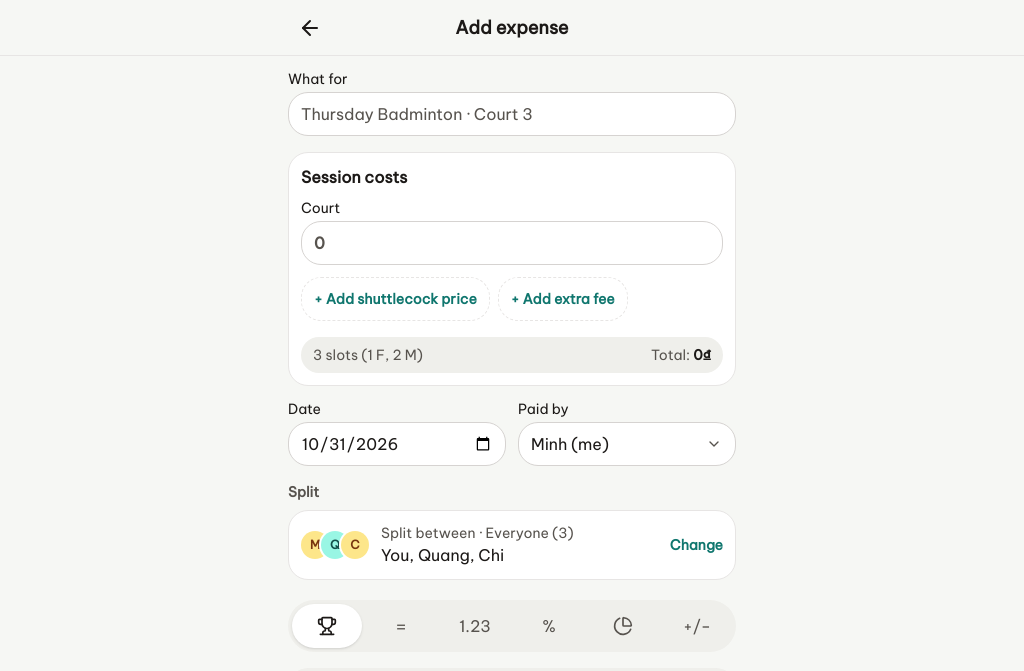
Test: Sport ExpenseForm and ExpenseDetails bill sharing › initially hides shuttlecock and extra fee inputs on a new sport expense until clicked, and removes them via × buttons
This screenshot has width=1024, height=671.
Expected: the field labelled "What for" is shown, left=288, top=92, right=736, bottom=136
Expected: the field labelled "Extra fee (water, parking…)" is not shown
# Click + Add shuttlecock price
Click the button "+ Add shuttlecock price".
click(395, 299)  # box left=301, top=277, right=490, bottom=321
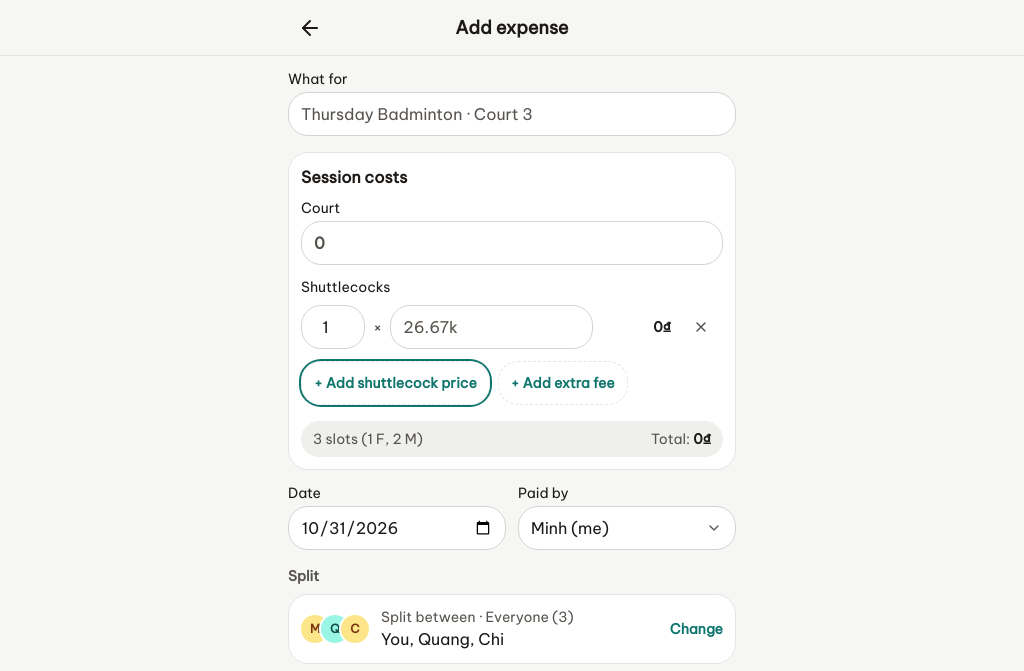
Result: the number field named "Qty" is shown at left=301, top=305, right=365, bottom=349
Result: the field named "Unit price" is shown at left=390, top=305, right=593, bottom=349
# Click + Add extra fee
Click the button "+ Add extra fee".
click(563, 383)  # box left=498, top=361, right=628, bottom=405
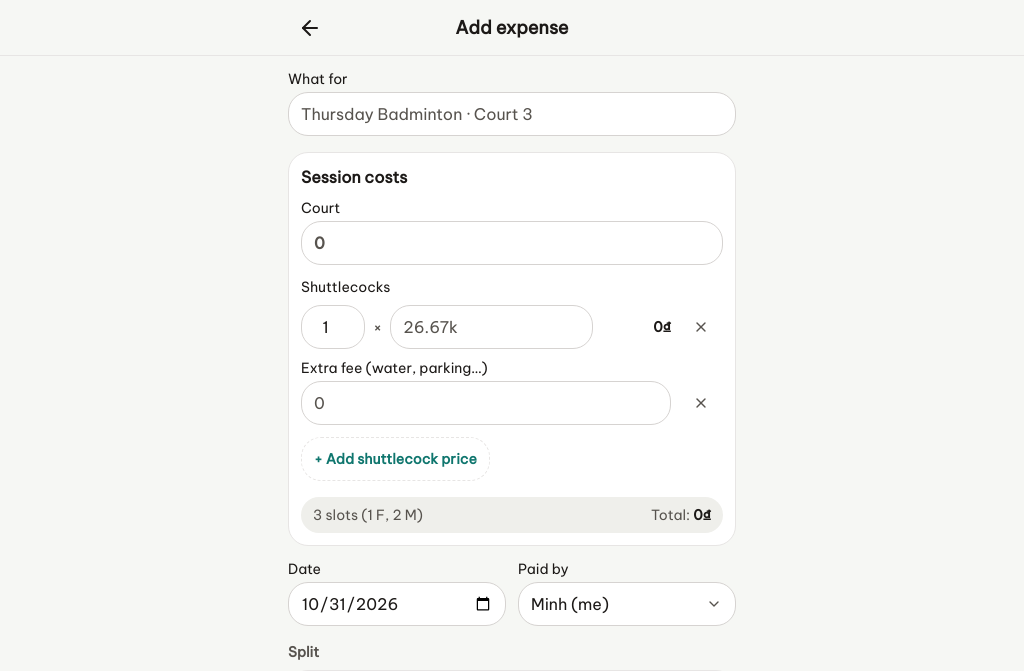
Result: the field labelled "Extra fee (water, parking…)" is shown at left=301, top=381, right=671, bottom=425
Result: the button "+ Add extra fee" is gone
# Remove shuttlecock row via × button
Click the button named "Remove shuttlecock row 1".
click(701, 327)  # box left=679, top=305, right=723, bottom=349
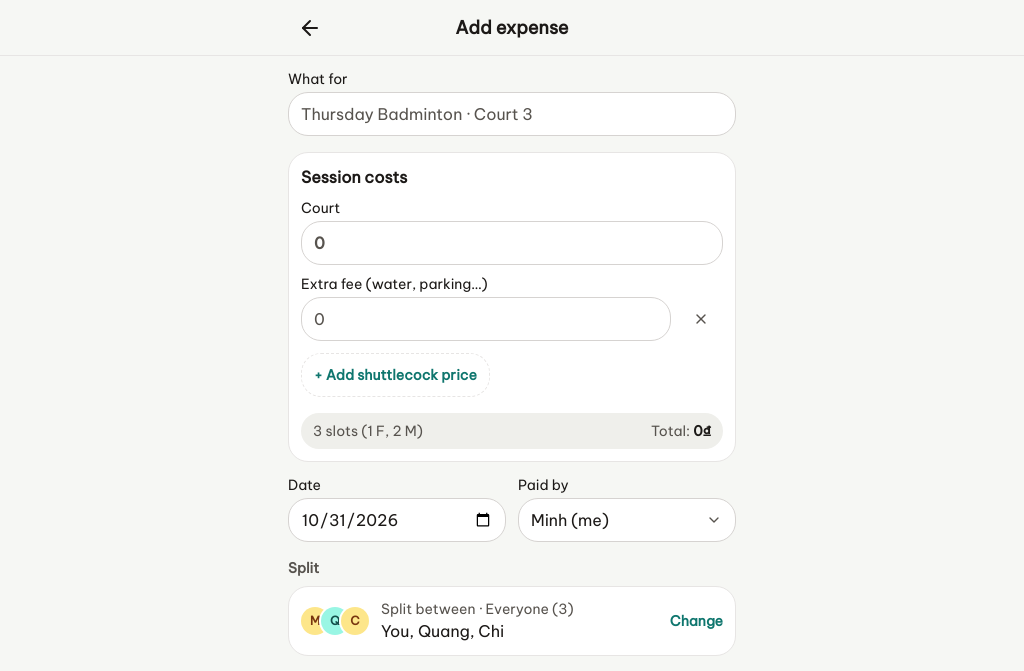
Expected: the button "+ Add shuttlecock price" is shown, left=301, top=353, right=490, bottom=397
Result: the number field labelled "Qty" is gone
# Remove extra fee via × button
Click the button named "Remove extra fee".
click(701, 319)  # box left=679, top=297, right=723, bottom=341
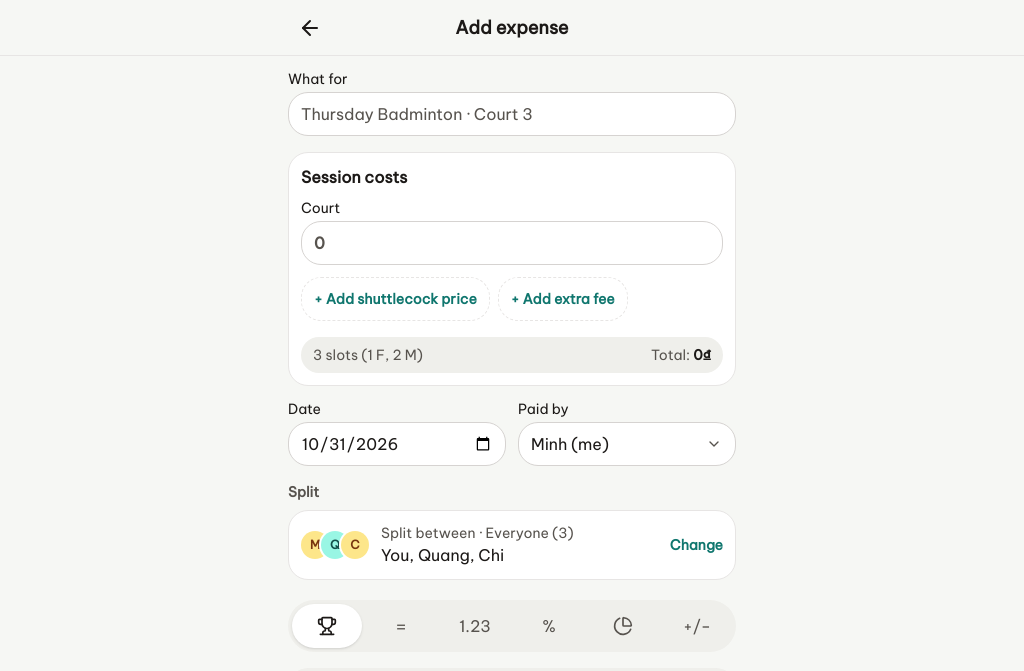
Result: the label labelled "Extra fee (water, parking…)" is gone
Result: the button "+ Add extra fee" is shown at left=498, top=277, right=628, bottom=321
